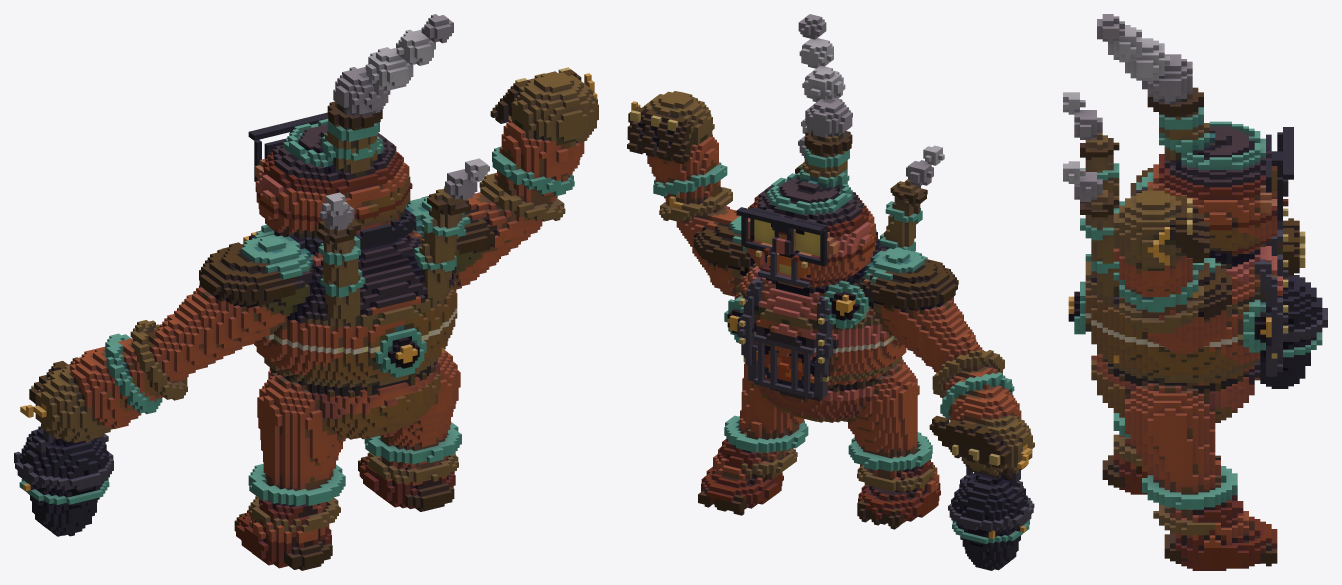
The model's file is KilnGolem.glb.
The picture shows the model from 3 angles, left to right: view 1: azimuth 30°, elevation 25°; view 2: azimuth 150°, elevation 25°; view 3: azimuth 270°, elevation 25°; orthographic projection. The views are drawn at different scales.
Parts seen in each view (by area): view 1: Body__Tex2, ArmL2__Tex, Body__Tex, LegL__Tex, ArmR2__Tex, Head__Tex, ArmL__Tex, LegR__Tex, Lid__Tex, ArmR__Tex; view 2: ArmL2__Tex, Body__Tex, Body__Tex2, Head__Tex, LegL__Tex, ArmR2__Tex, LegR__Tex, ArmL__Tex, Lid__Tex, ArmR__Tex; view 3: LegR__Tex, Body__Tex, Head__Tex, Body__Tex2, ArmR2__Tex, Lid__Tex, ArmL2__Tex, ArmR__Tex, LegL__Tex.
Boxes of the visible parts, x1=… form: Body__Tex2: x1=241, y1=158, x2=489, y2=332; ArmL2__Tex: x1=14, y1=320, x2=193, y2=536; Body__Tex: x1=254, y1=288, x2=457, y2=439; LegL__Tex: x1=234, y1=372, x2=345, y2=570; ArmR2__Tex: x1=479, y1=67, x2=598, y2=233; Head__Tex: x1=248, y1=112, x2=412, y2=239; ArmL__Tex: x1=159, y1=242, x2=297, y2=373; LegR__Tex: x1=358, y1=349, x2=461, y2=511; Lid__Tex: x1=322, y1=14, x2=453, y2=177; ArmR__Tex: x1=422, y1=192, x2=530, y2=289; ArmL2__Tex: x1=929, y1=344, x2=1034, y2=570; Body__Tex: x1=724, y1=296, x2=906, y2=422; Body__Tex2: x1=728, y1=119, x2=944, y2=340; Head__Tex: x1=736, y1=172, x2=877, y2=288; LegL__Tex: x1=845, y1=359, x2=940, y2=529; ArmR2__Tex: x1=627, y1=91, x2=732, y2=232; LegR__Tex: x1=698, y1=362, x2=808, y2=515; ArmL__Tex: x1=863, y1=258, x2=982, y2=373; Lid__Tex: x1=798, y1=14, x2=852, y2=189; ArmR__Tex: x1=682, y1=205, x2=755, y2=296; LegR__Tex: x1=1125, y1=381, x2=1277, y2=570; Body__Tex: x1=1068, y1=260, x2=1288, y2=422; Head__Tex: x1=1147, y1=121, x2=1293, y2=256; Body__Tex2: x1=1063, y1=92, x2=1288, y2=323; ArmR2__Tex: x1=1113, y1=190, x2=1209, y2=338; Lid__Tex: x1=1097, y1=14, x2=1215, y2=162; ArmL2__Tex: x1=1260, y1=218, x2=1327, y2=388; ArmR__Tex: x1=1142, y1=263, x2=1231, y2=353; LegL__Tex: x1=1102, y1=413, x2=1220, y2=494.
Size of the model in its own units: 18.02 by 17.51 by 7.99.
